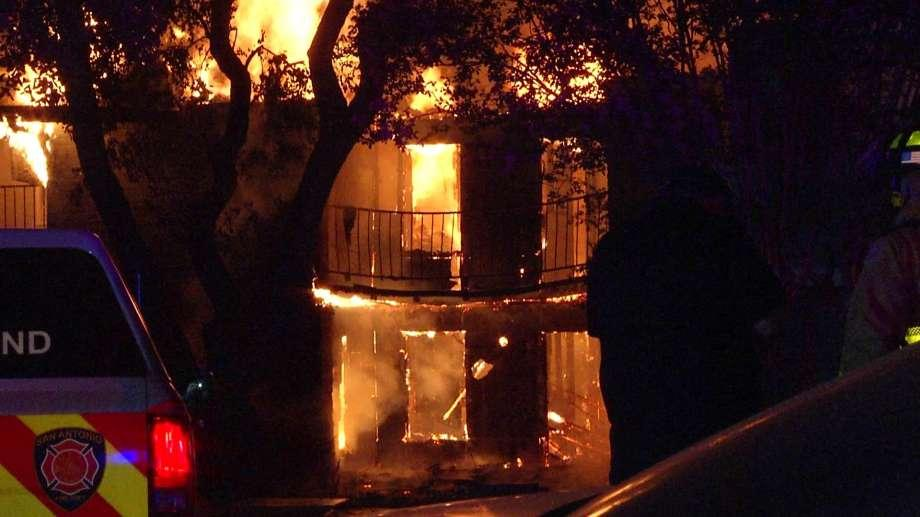Fire: (174, 2, 601, 458)
